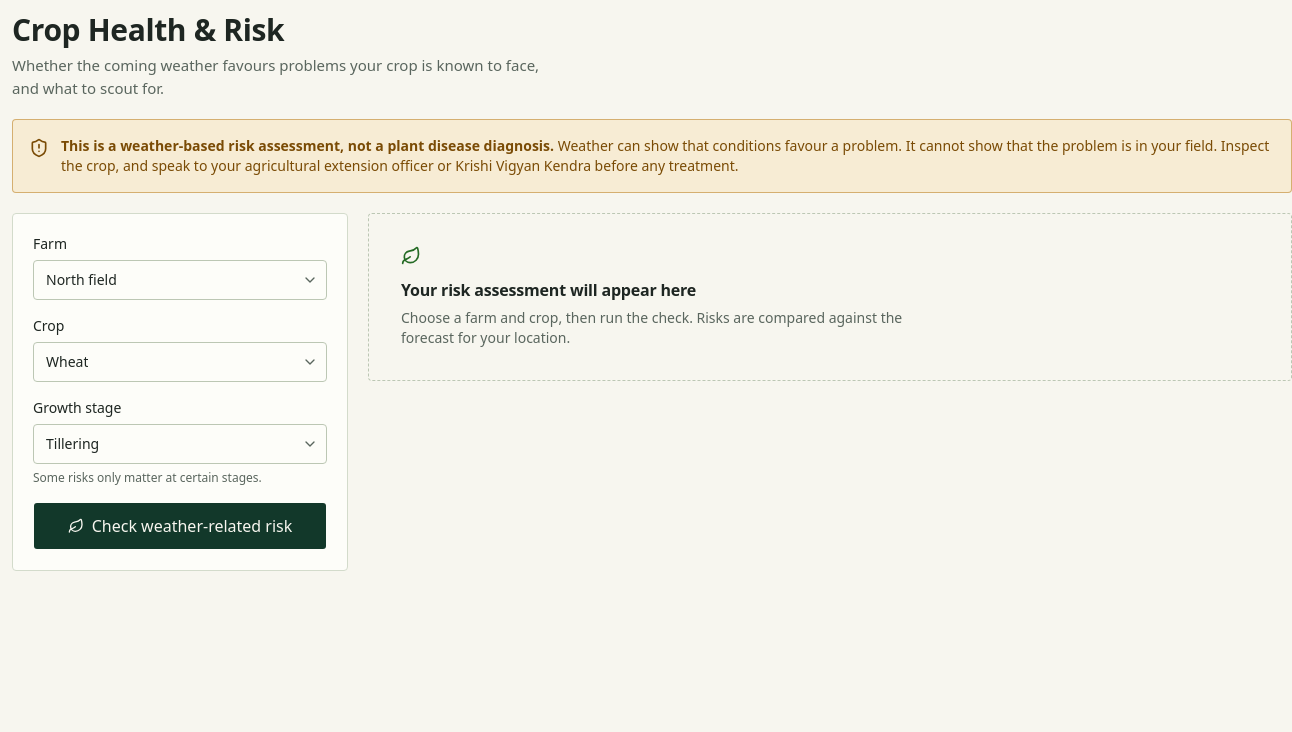
it: CropHealthPage › shows a failure with a retry
The width and height of the screenshot is (1292, 732).
Click the button "Check weather-related risk" at (180, 526), box [33,502,327,550]
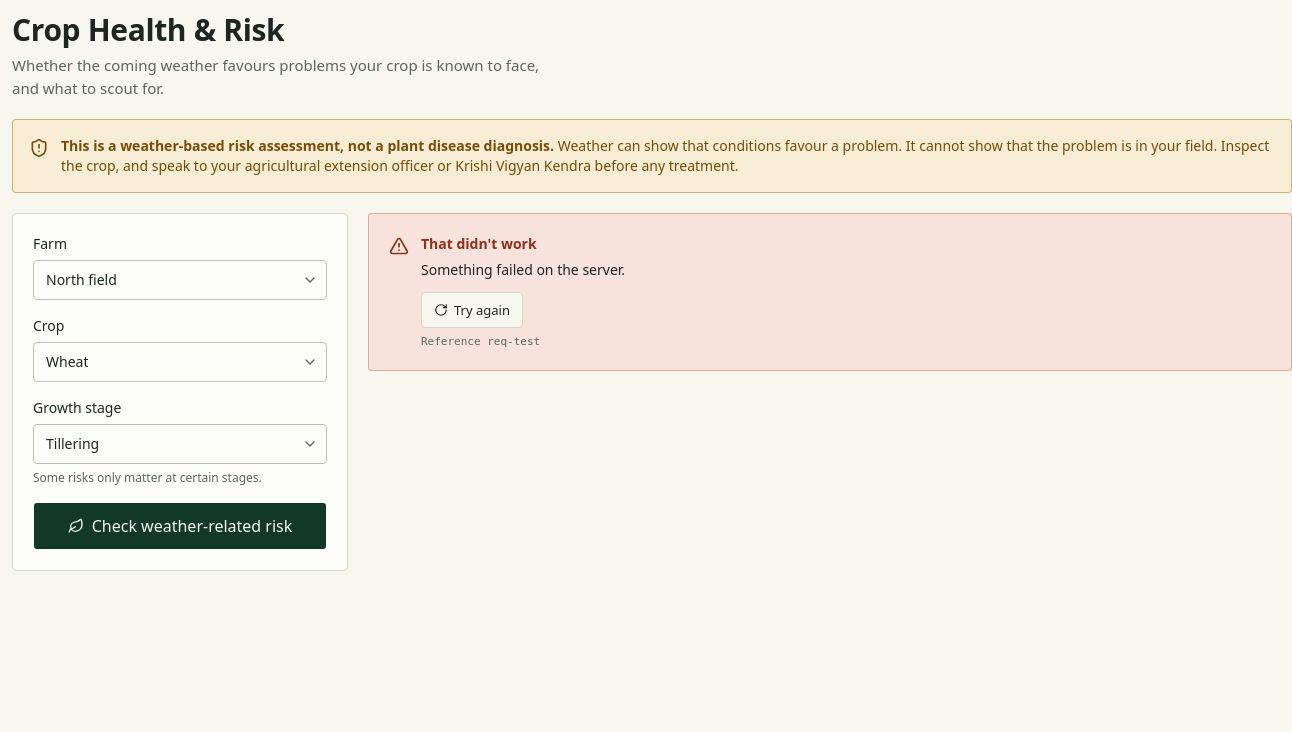
expect the message shows "Something failed on the server.": met, box [421,260,625,279]
expect the button "Try again" is shown: met, box [421,292,523,328]
